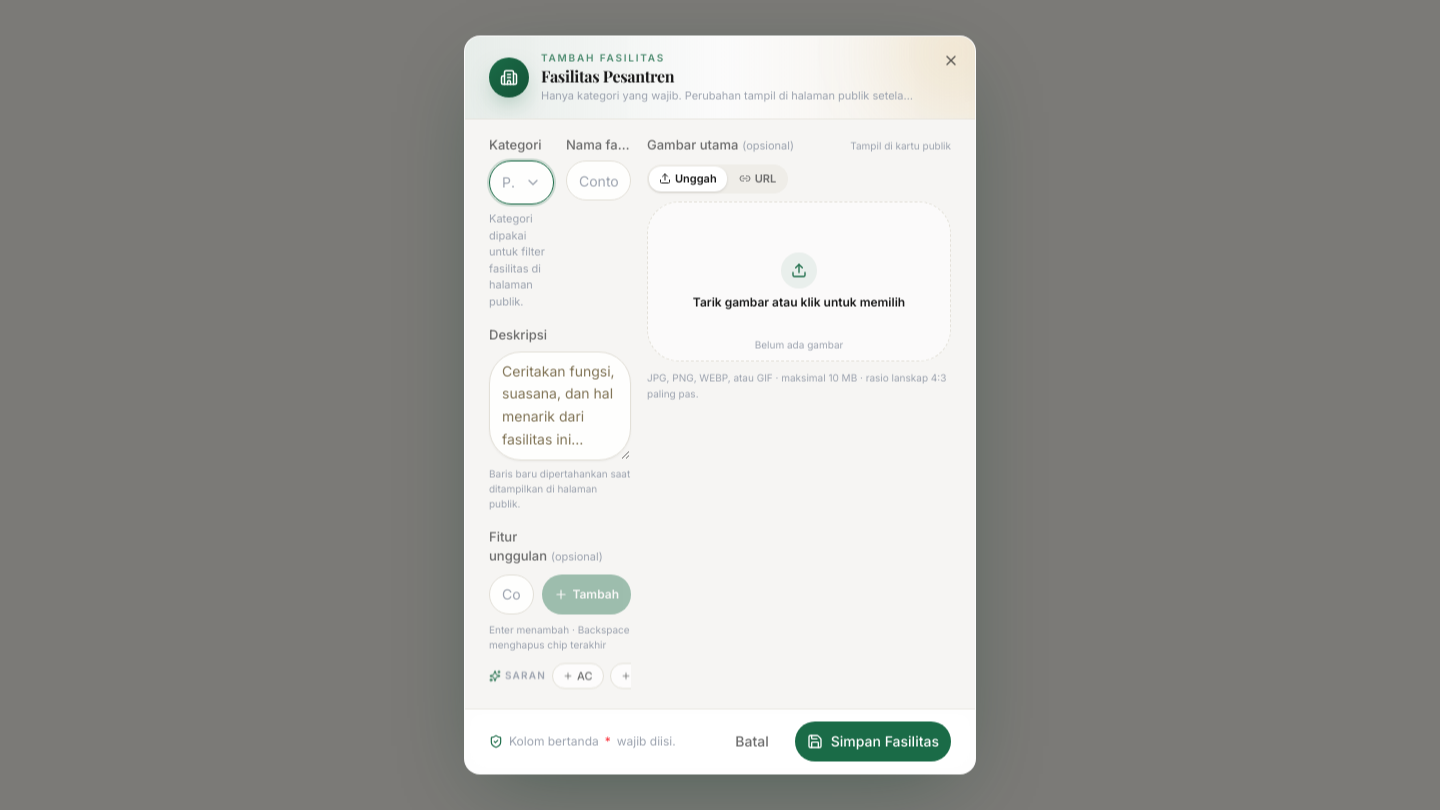
Test: FacilityFormDialog — penyimpanan › menolak fitur duplikat tanpa membedakan kapitalisasi
Type "AC" into the field labelled "Fitur unggulan(opsional)" at coordinates (512, 594), box [489, 574, 534, 614]
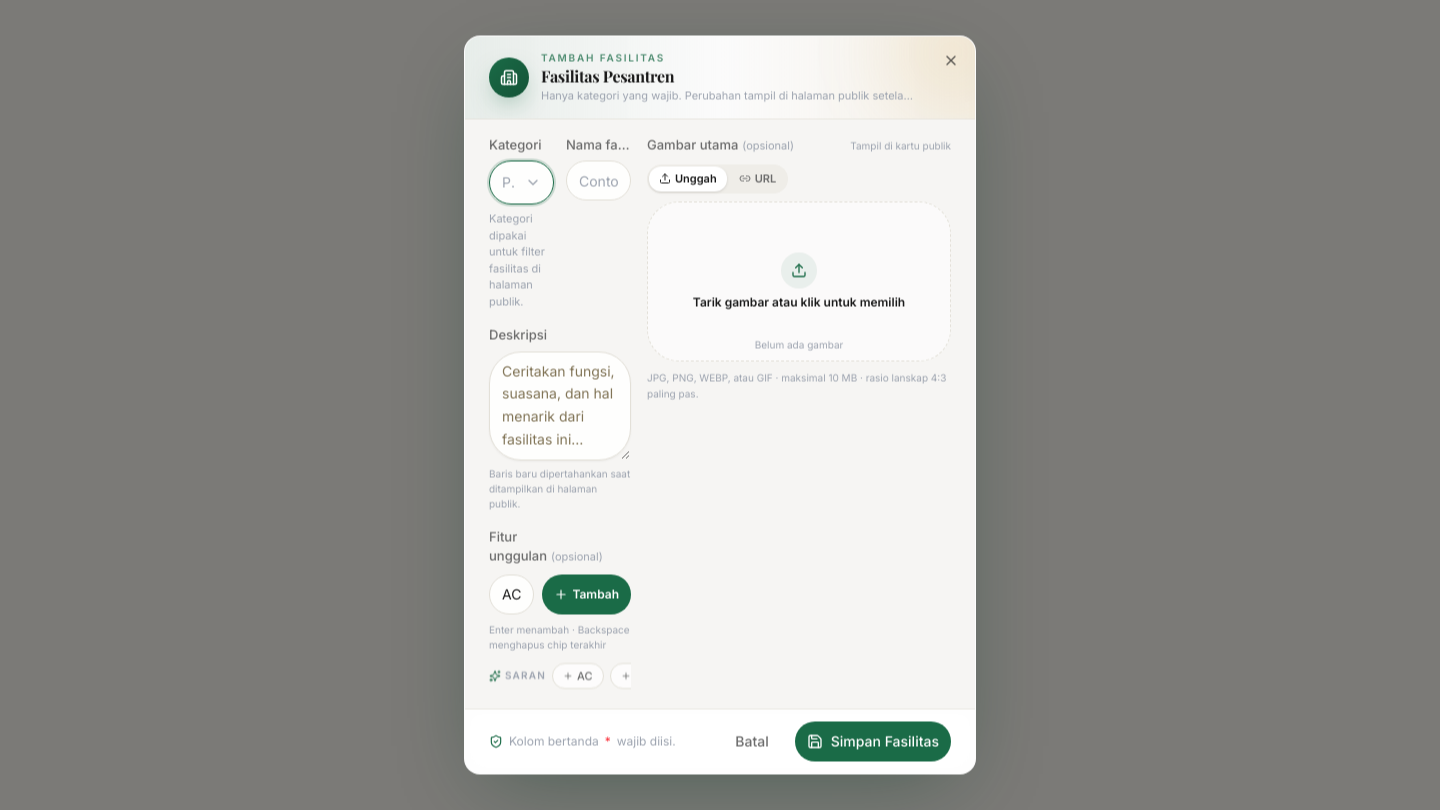
Press Enter in the field labelled "Fitur unggulan(opsional)", box [489, 574, 534, 614]
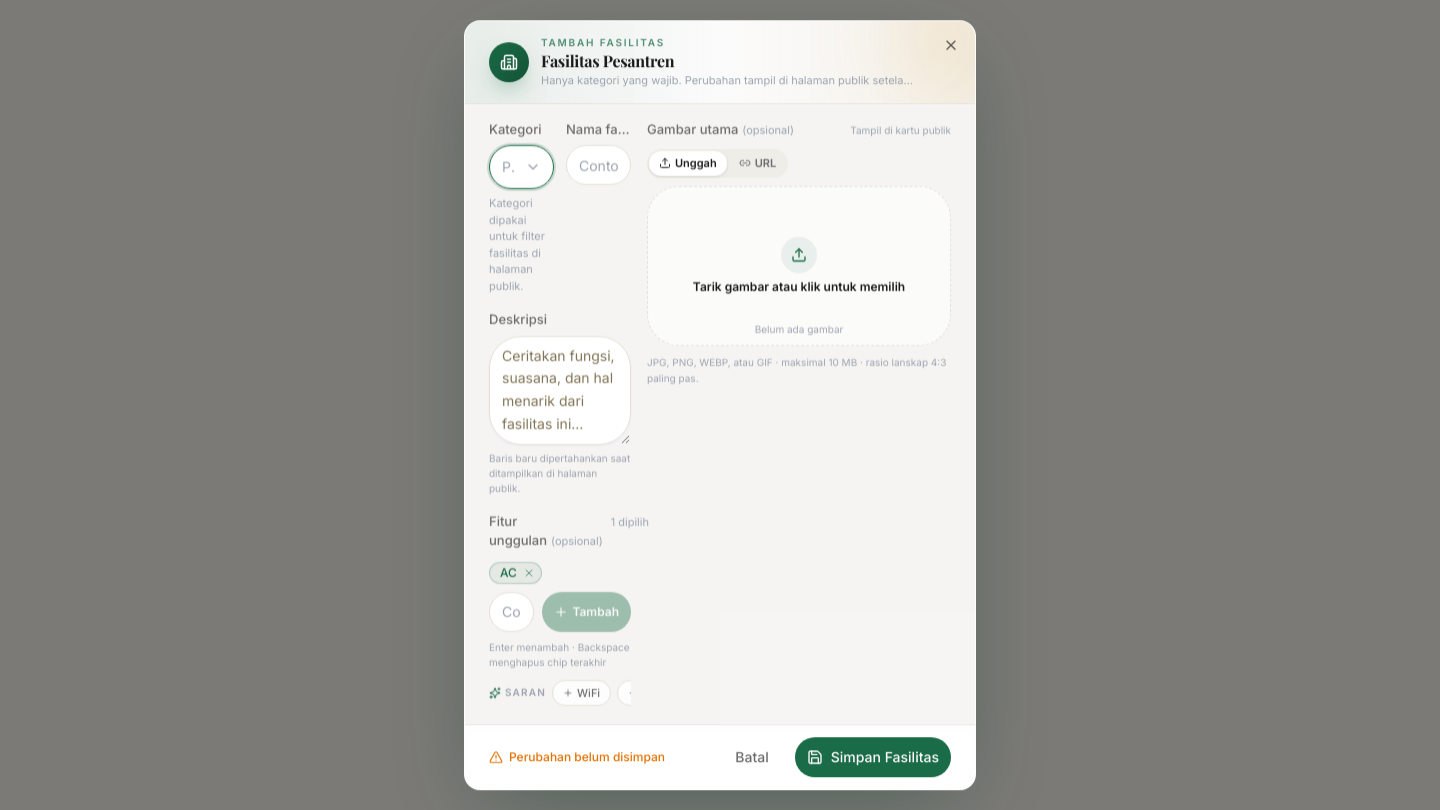
expect the button named "Hapus fitur AC" is shown: met, box [521, 565, 537, 581]
Type "ac" into the field labelled "Fitur unggulan(opsional)" at coordinates (512, 612), box [489, 592, 534, 632]
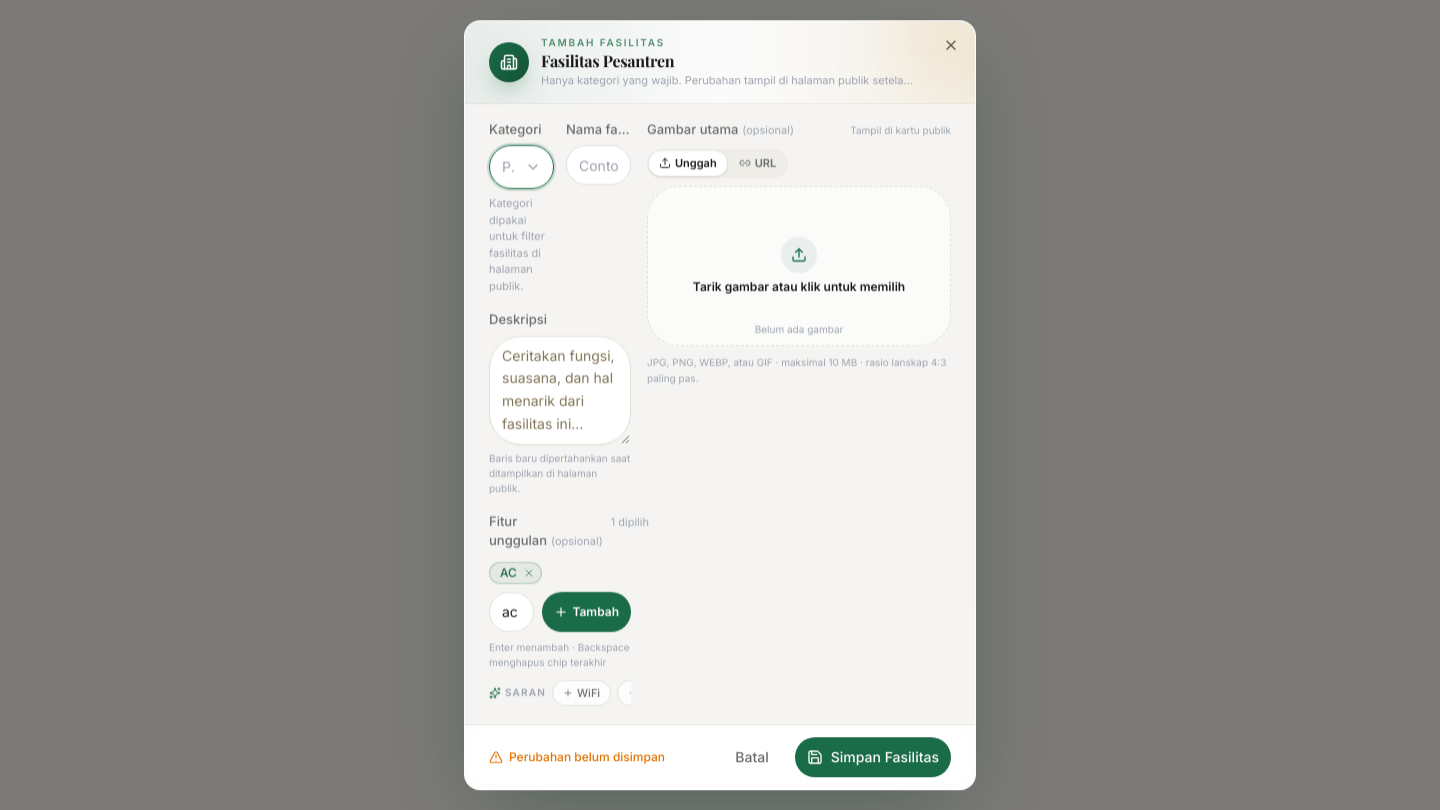
Press Enter in the field labelled "Fitur unggulan(opsional)", box [489, 592, 534, 632]
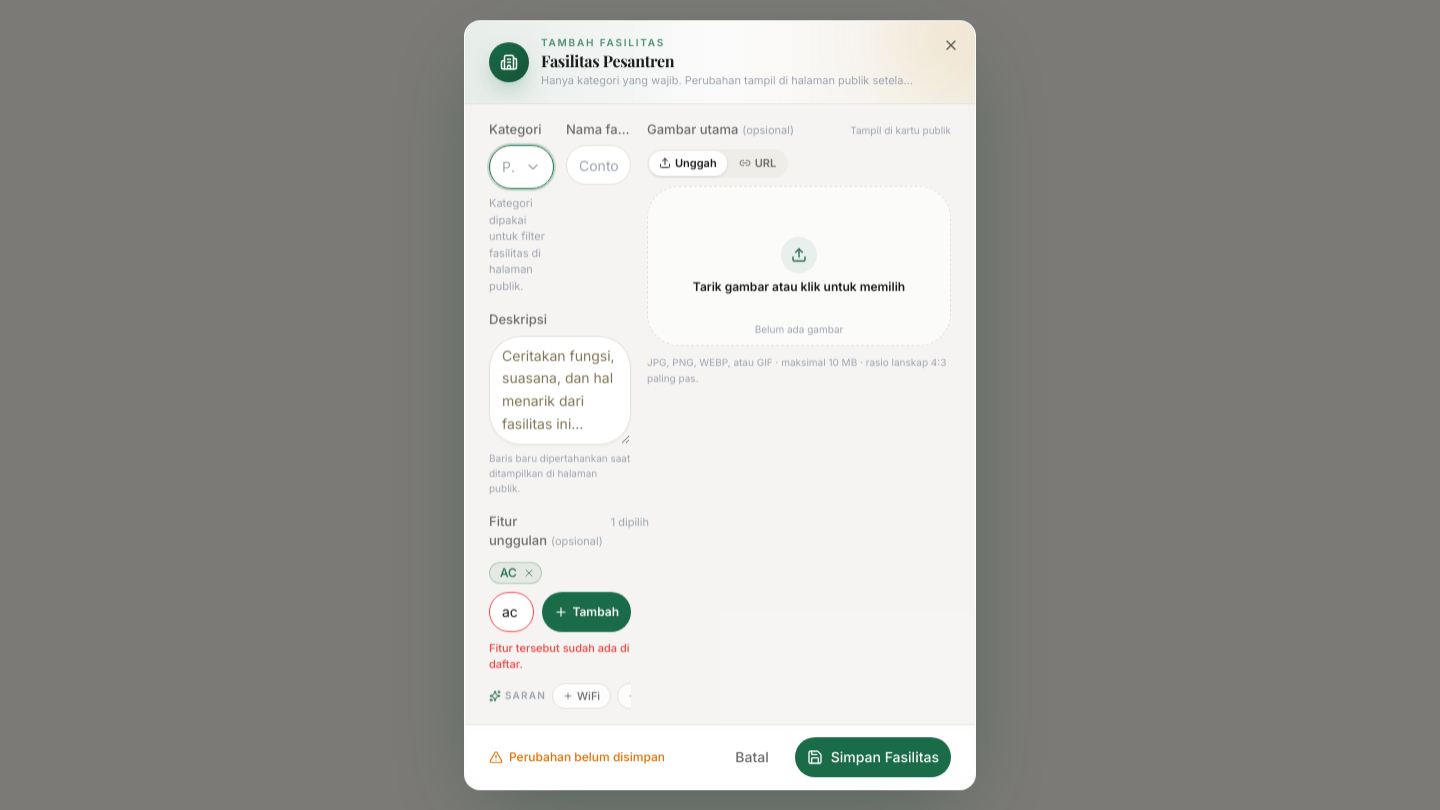
expect the number of buttons named "hapus fitur ac" is 1: met, box [521, 565, 537, 581]
expect the text "Fitur tersebut sudah ada di daftar." is shown: met, box [489, 640, 631, 673]
